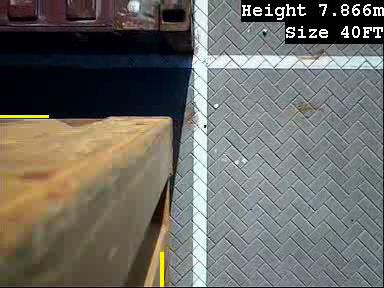groundmarker_2: (191, 31, 228, 107)
